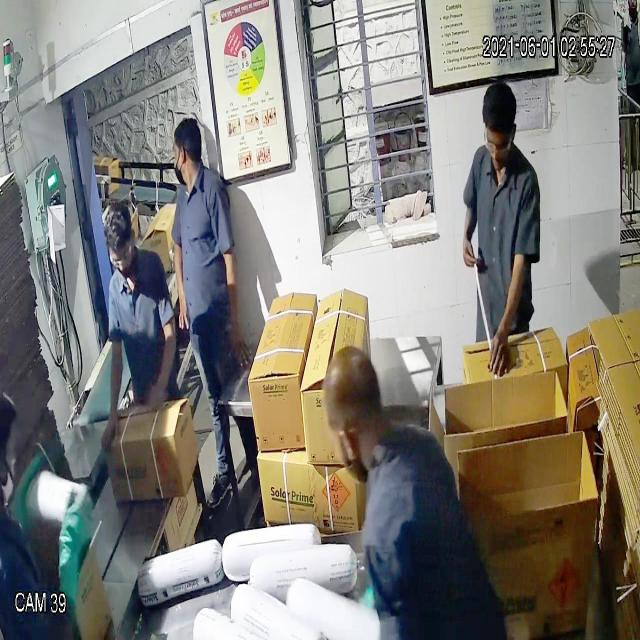glasses: (472, 122, 516, 164), (100, 236, 142, 276)
